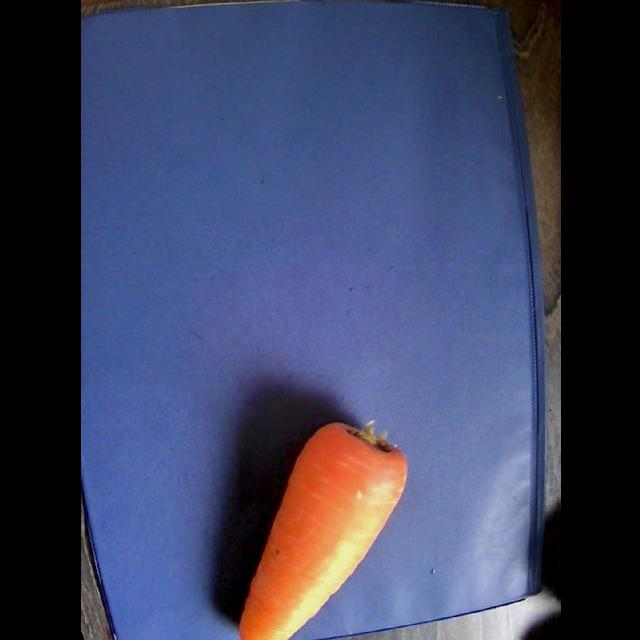zanahoria: (240, 423, 406, 639)
